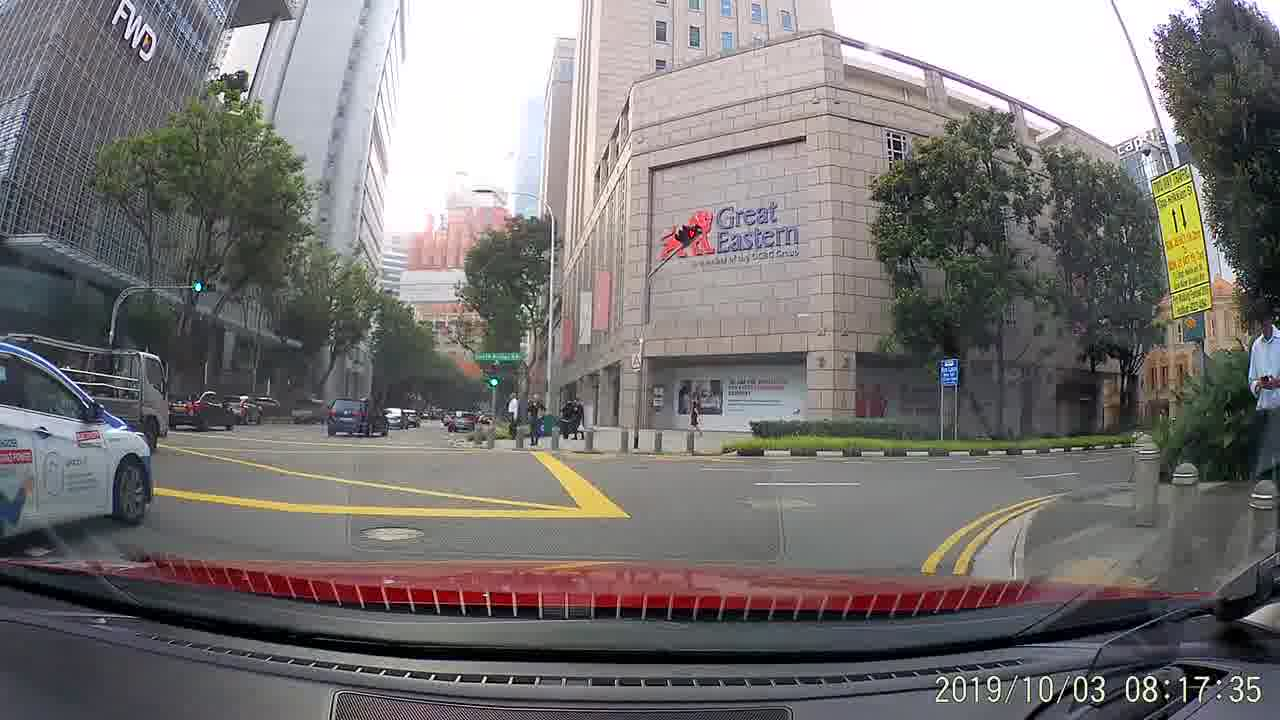car: (1, 338, 152, 537), (326, 390, 392, 440), (170, 385, 234, 433), (221, 393, 263, 426), (442, 409, 482, 435), (382, 409, 411, 427)
